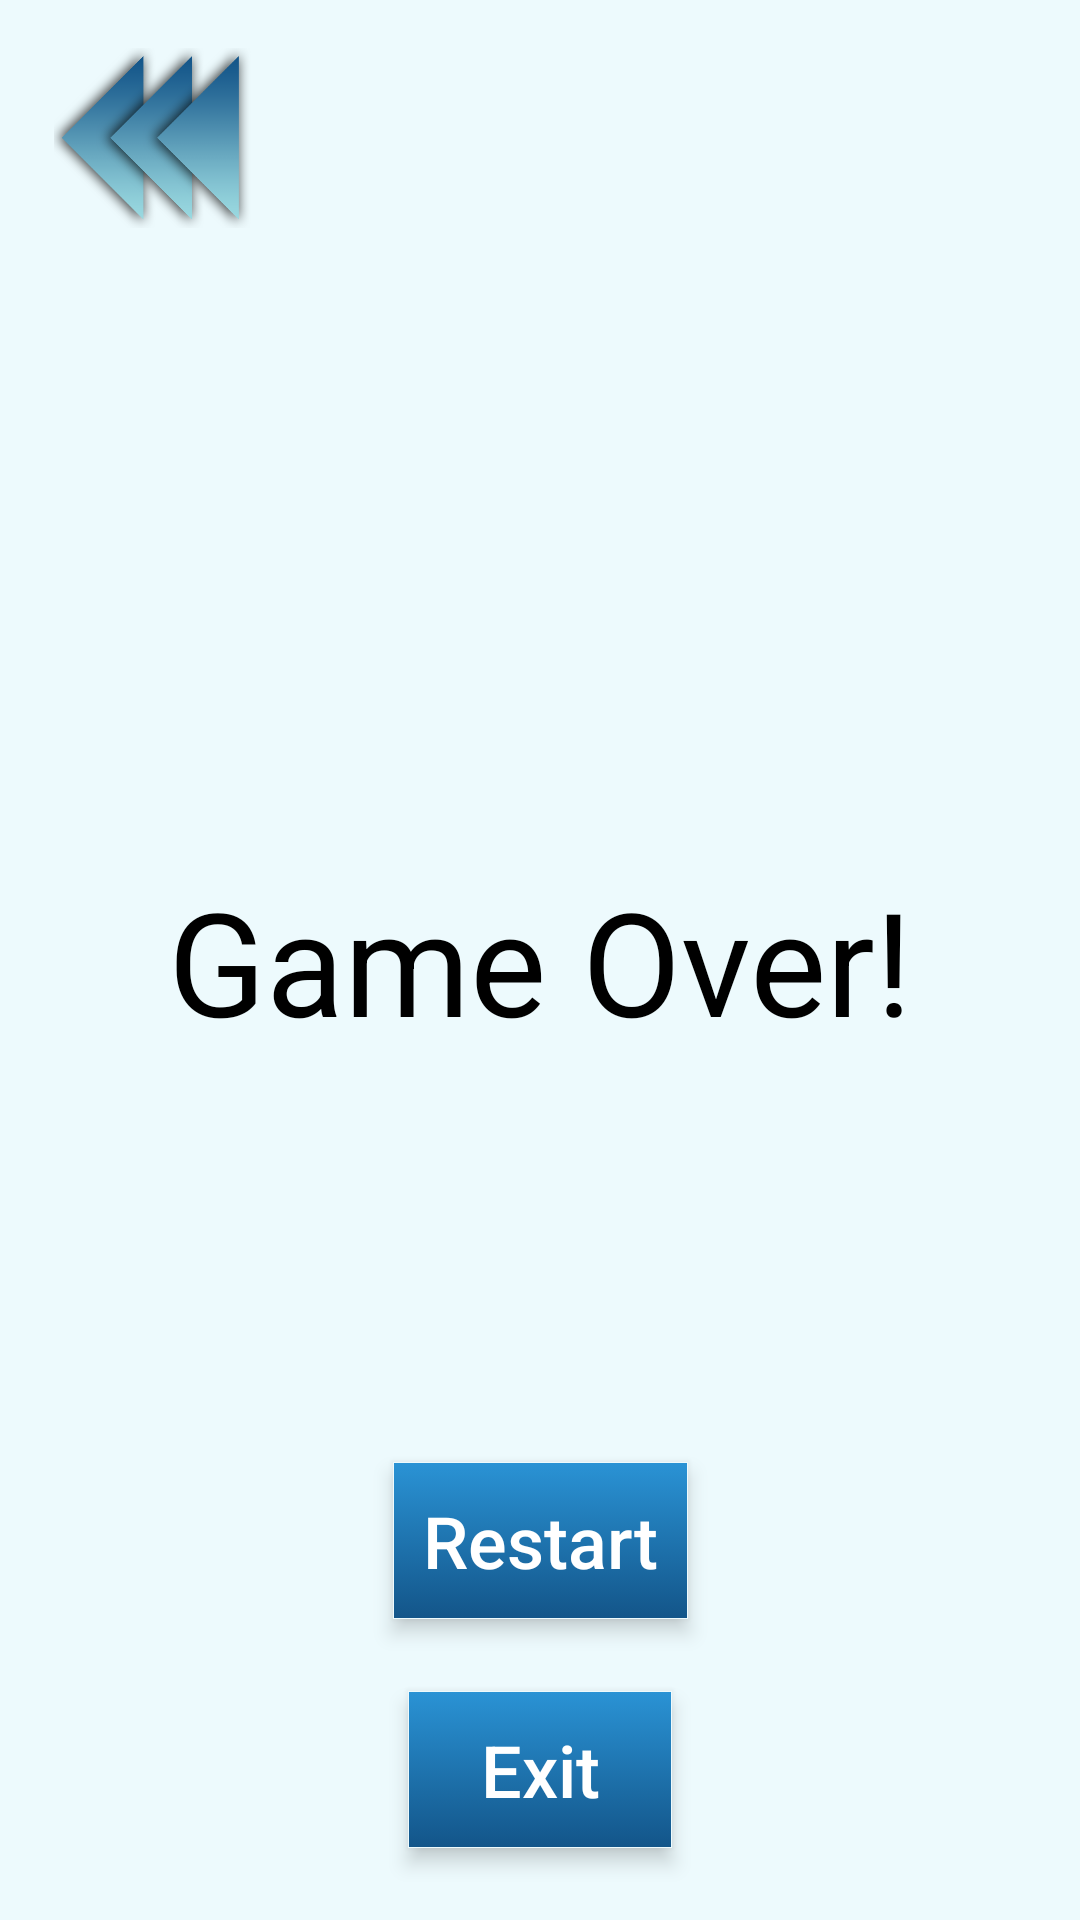

Icon click points for this 1080 × 1920 phone screenshot, format (x,y):
back: (150,138)
